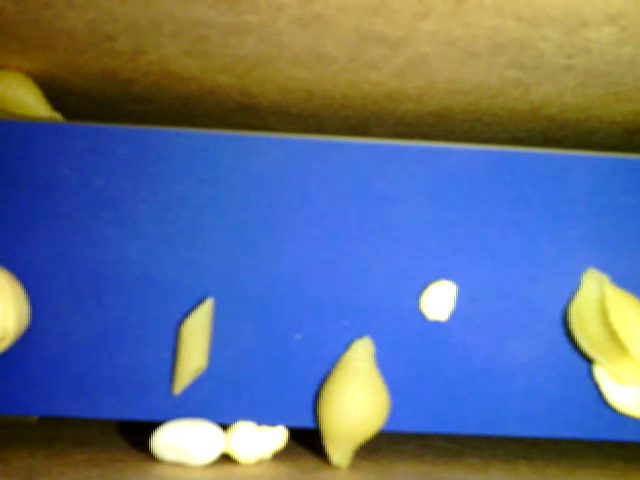penne: (172, 293, 216, 395)
shell: (314, 329, 390, 469), (563, 262, 637, 380), (3, 60, 71, 121)
